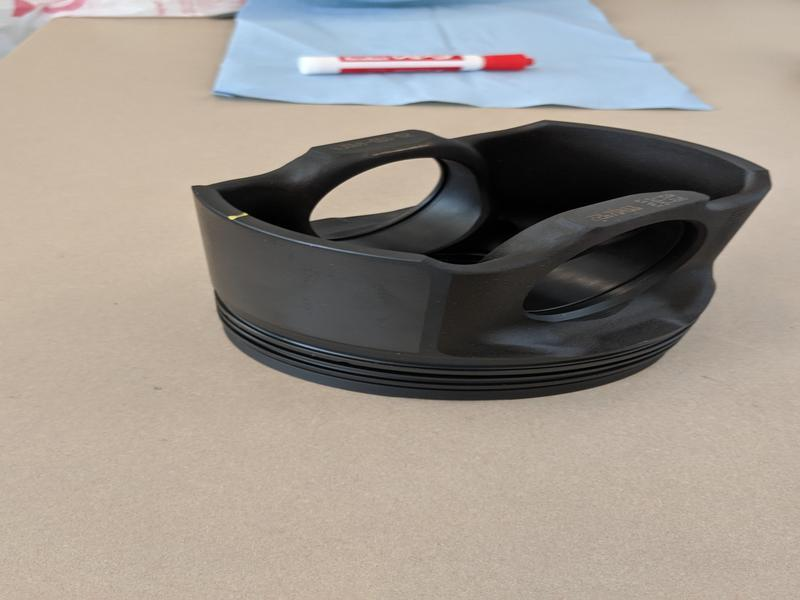piston: (187, 113, 778, 410)
